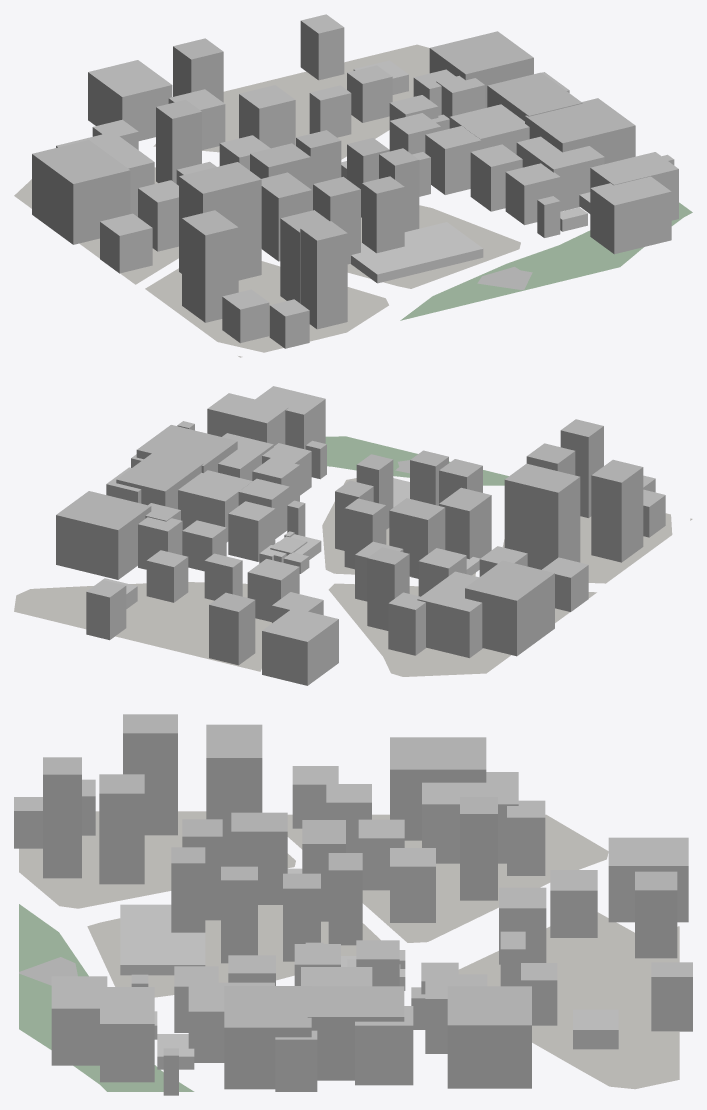
File: 136_86_mid.glb
3 renders of one model, top to bottom at view 1: azimuth 30°, elevation 25°; view 2: azimuth 150°, elevation 25°; view 3: azimuth 270°, elevation 25°, orthographic. The views are drawn at different scales.
Size of the model in its own units: 513 by 98.91 by 514.
